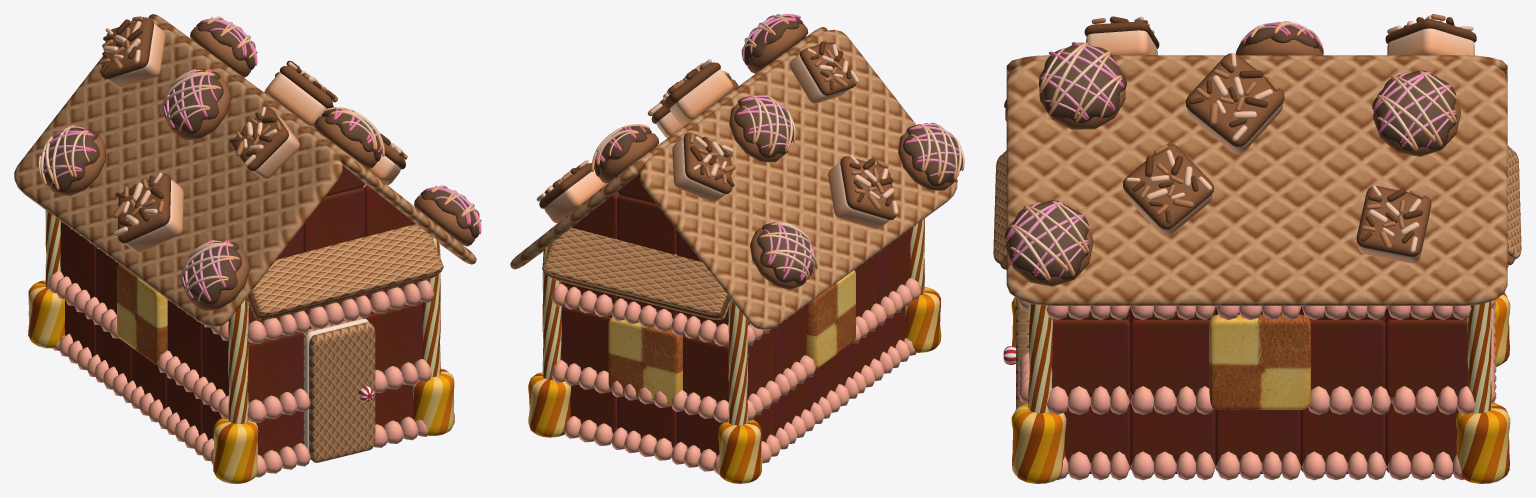
File: cw_house_2.fbx
The picture shows the model from 3 angles, left to right: view 1: azimuth 30°, elevation 25°; view 2: azimuth 150°, elevation 25°; view 3: azimuth 270°, elevation 25°; orthographic projection. The views are drawn at different scales.
Parts seen in each view (by area): view 1: cw_house_2; view 2: cw_house_2; view 3: cw_house_2.
Boxes of the visible parts, box(x1,y1,x2,y2) form: cw_house_2: box(14, 14, 481, 483); cw_house_2: box(510, 14, 964, 483); cw_house_2: box(993, 14, 1521, 483).
Size of the model in its own units: 519 by 548 by 671.
